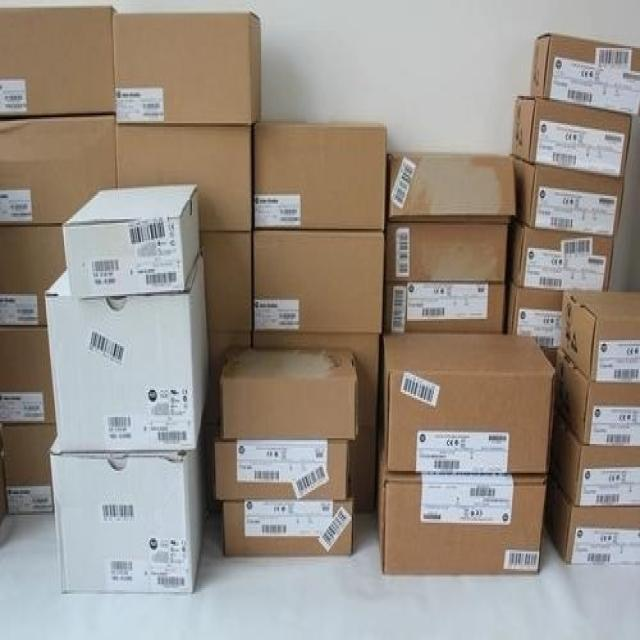box: (46, 254, 211, 452), (49, 431, 206, 594), (380, 332, 557, 473), (376, 438, 547, 575), (111, 12, 261, 123), (64, 185, 198, 296), (116, 123, 252, 231), (253, 119, 385, 229), (253, 231, 385, 332), (0, 6, 119, 115), (220, 346, 357, 440), (0, 115, 116, 225), (253, 332, 379, 427), (214, 425, 349, 500), (224, 477, 353, 555), (512, 96, 632, 177), (388, 150, 516, 223), (513, 154, 625, 236), (529, 33, 640, 115), (544, 473, 640, 565), (549, 413, 640, 507), (556, 352, 640, 448), (506, 217, 614, 288), (561, 288, 640, 382), (387, 221, 507, 281), (0, 225, 67, 327), (385, 283, 504, 332), (200, 231, 253, 331), (0, 327, 55, 423), (201, 332, 251, 427), (3, 425, 56, 513), (504, 279, 562, 348), (351, 427, 376, 513)
